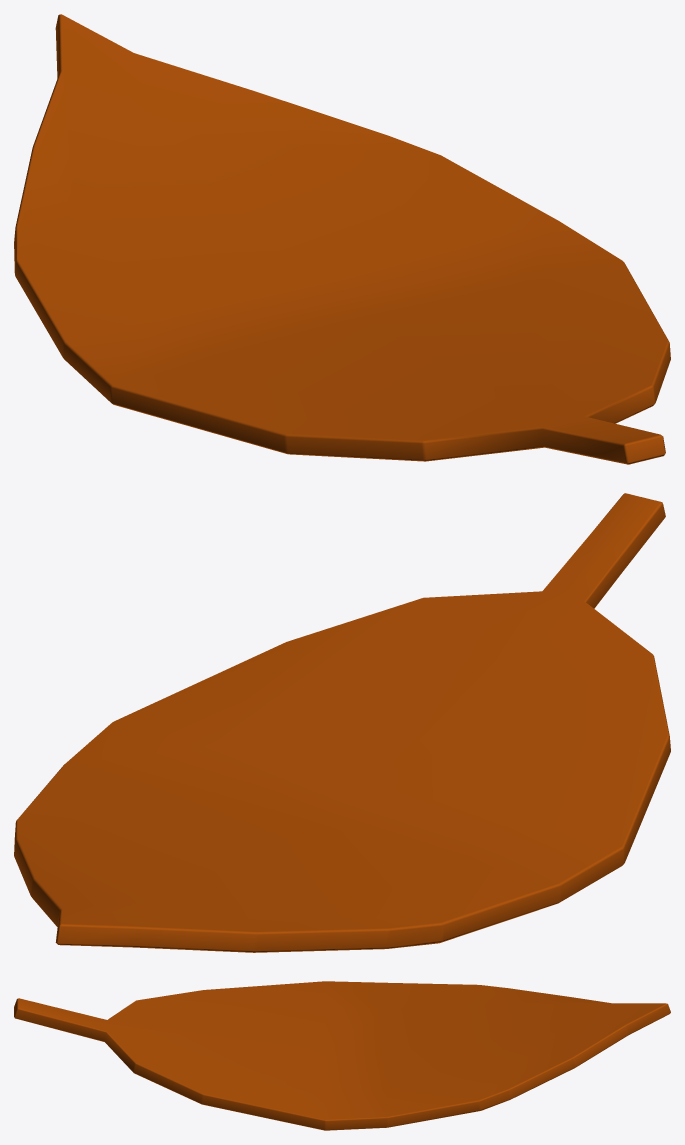
The model's file is Leaf.fbx.
The picture shows the model from 3 angles, top to bottom: view 1: azimuth 30°, elevation 25°; view 2: azimuth 150°, elevation 25°; view 3: azimuth 270°, elevation 25°; orthographic projection. The views are drawn at different scales.
Parts seen in each view (by area): view 1: Leaf; view 2: Leaf; view 3: Leaf.
Boxes of the visible parts, bbox=[...] form: Leaf: bbox=[14, 14, 670, 464]; Leaf: bbox=[14, 493, 670, 952]; Leaf: bbox=[14, 981, 670, 1130].
Size of the model in its own units: 0.4749 by 0.0929 by 0.9454.
